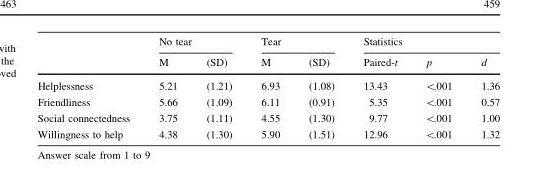table: (36, 36, 499, 140)
table column: (36, 36, 143, 140), (348, 36, 410, 140), (410, 36, 466, 140), (191, 36, 246, 140), (293, 36, 348, 140), (143, 36, 191, 140), (246, 36, 293, 140), (466, 36, 499, 140)
table column header: (36, 36, 499, 73)
table row: (36, 51, 499, 73), (36, 73, 499, 93), (36, 109, 499, 126), (36, 93, 499, 109), (36, 36, 499, 51), (36, 126, 499, 140)
table spanning cell: (348, 36, 499, 51), (143, 36, 246, 51), (246, 36, 348, 51)
